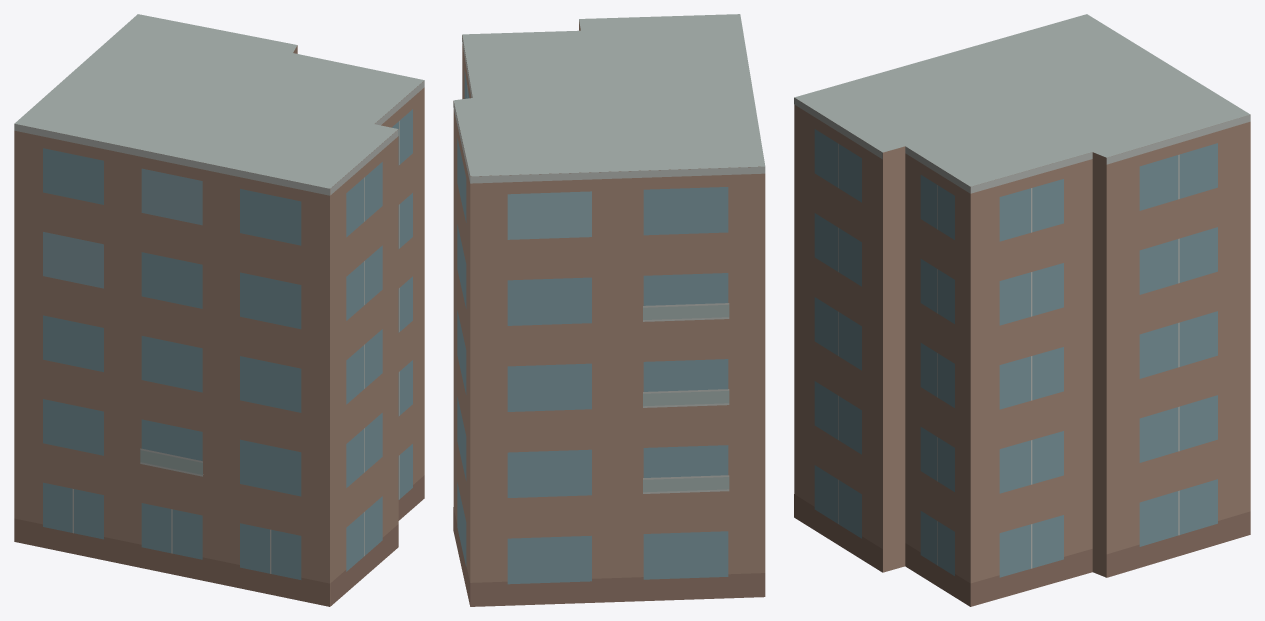
Rendered from survey-upis-32781190.glb.
The picture shows the model from 3 angles, left to right: view 1: azimuth 30°, elevation 25°; view 2: azimuth 150°, elevation 25°; view 3: azimuth 270°, elevation 25°; orthographic projection. The views are drawn at different scales.
Parts seen in each view (by area): view 1: survey-upis-32781190.tmp; view 2: survey-upis-32781190.tmp; view 3: survey-upis-32781190.tmp.
Boxes of the visible parts, x1,y1,x2,y2 form: survey-upis-32781190.tmp: [14, 14, 424, 606]; survey-upis-32781190.tmp: [453, 14, 765, 606]; survey-upis-32781190.tmp: [794, 14, 1250, 606].
Bounding box in the file's own units: 12.98 × 14.7 × 14.49.
